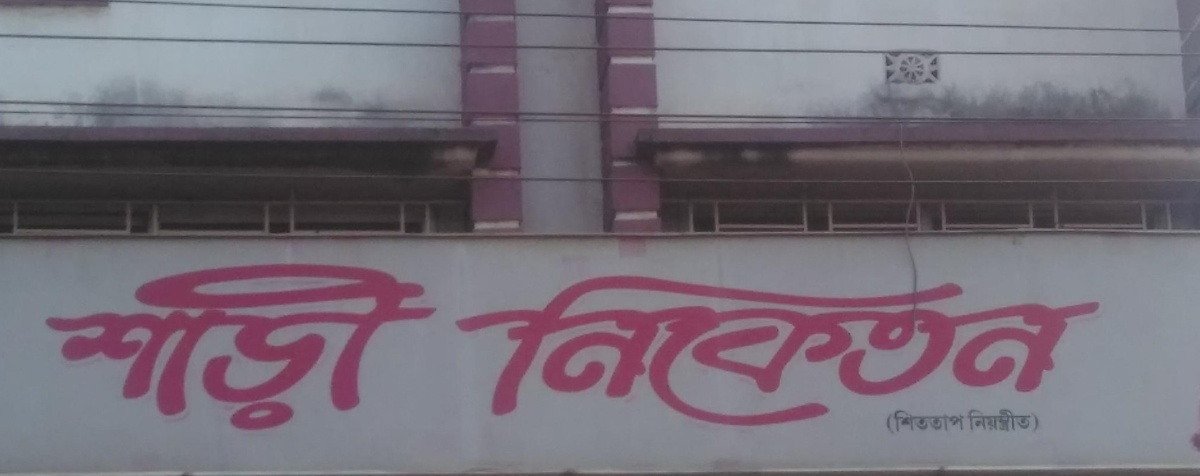text: (449, 249, 464, 439), (465, 249, 480, 439), (481, 249, 496, 439), (497, 249, 512, 439), (513, 249, 528, 439), (529, 249, 544, 439), (545, 249, 560, 439), (561, 249, 576, 439), (577, 249, 592, 439), (593, 249, 608, 439), (609, 249, 624, 439), (625, 249, 640, 439), (641, 249, 656, 439), (657, 249, 672, 439), (673, 249, 688, 439), (689, 249, 704, 439), (705, 249, 720, 439), (721, 249, 736, 439), (737, 249, 752, 439), (753, 249, 768, 439), (769, 249, 784, 439), (785, 249, 800, 439), (801, 249, 816, 439), (817, 249, 832, 439), (833, 249, 848, 439), (849, 249, 864, 439), (865, 249, 880, 439), (881, 249, 896, 439), (897, 249, 912, 439), (913, 249, 928, 439), (929, 249, 944, 439), (945, 249, 960, 439), (961, 249, 976, 439), (977, 249, 992, 439), (993, 249, 1008, 439), (1009, 249, 1024, 439), (1025, 249, 1040, 439), (1041, 249, 1056, 439), (1057, 249, 1072, 439), (1073, 249, 1088, 439), (1089, 249, 1104, 439), (65, 255, 80, 437), (81, 255, 96, 437), (97, 255, 112, 437), (113, 255, 128, 437), (129, 255, 144, 437), (145, 255, 160, 437), (161, 255, 176, 437), (177, 255, 192, 437), (193, 255, 208, 437), (209, 255, 224, 437), (225, 255, 240, 437), (241, 255, 256, 437), (257, 255, 272, 437), (273, 255, 288, 437), (289, 255, 304, 437), (305, 255, 320, 437), (321, 255, 336, 437), (337, 255, 352, 437), (353, 255, 368, 437), (369, 255, 384, 437), (385, 255, 400, 437), (401, 255, 416, 437), (417, 255, 432, 437), (50, 255, 64, 437), (433, 255, 442, 437), (897, 410, 912, 434), (913, 410, 928, 434), (929, 410, 944, 434), (945, 410, 960, 434), (961, 410, 976, 434), (977, 410, 992, 434), (993, 410, 1008, 434), (1009, 410, 1024, 434), (1025, 410, 1040, 434), (888, 410, 896, 434), (1041, 410, 1045, 434)
